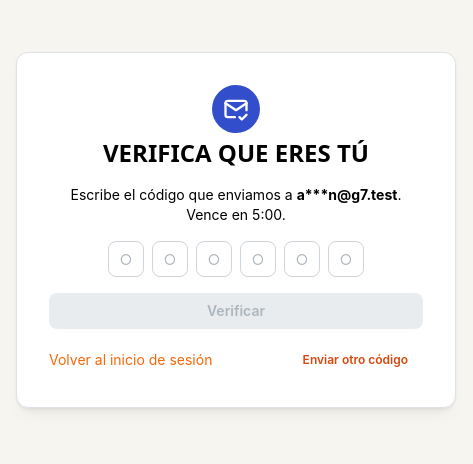
Test: FRONT-04 desafío OTP › código incorrecto muestra los intentos restantes y deja reintentar
Expected: the text "a***n@g7.test" is shown, x1=297 y1=186 x2=398 y2=203
Click the field named "Dígito 1 de 6".
click(126, 259)  # box x1=108 y1=241 x2=144 y2=277
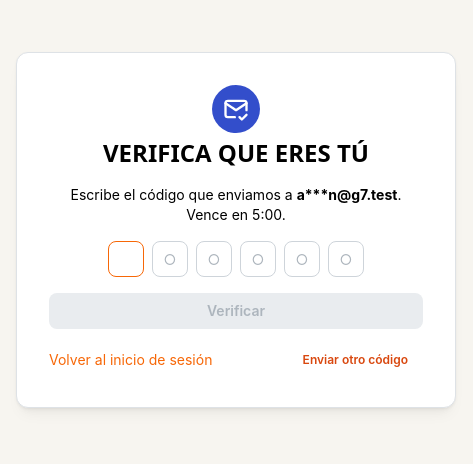
Type keys "000000"
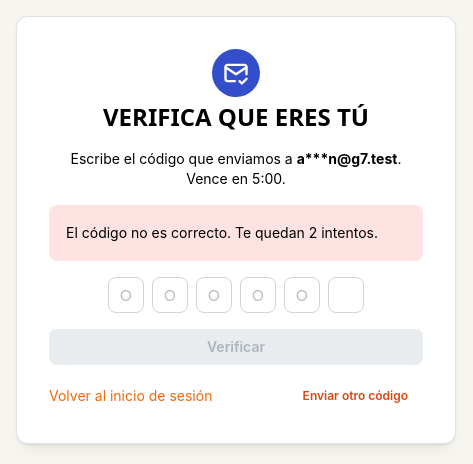
Expected: the field named "Dígito 1 de 6" is enabled, x1=108 y1=277 x2=144 y2=313
Expected: the message reads "El código no es correcto. Te quedan 2 intentos.", x1=66 y1=224 x2=378 y2=242
